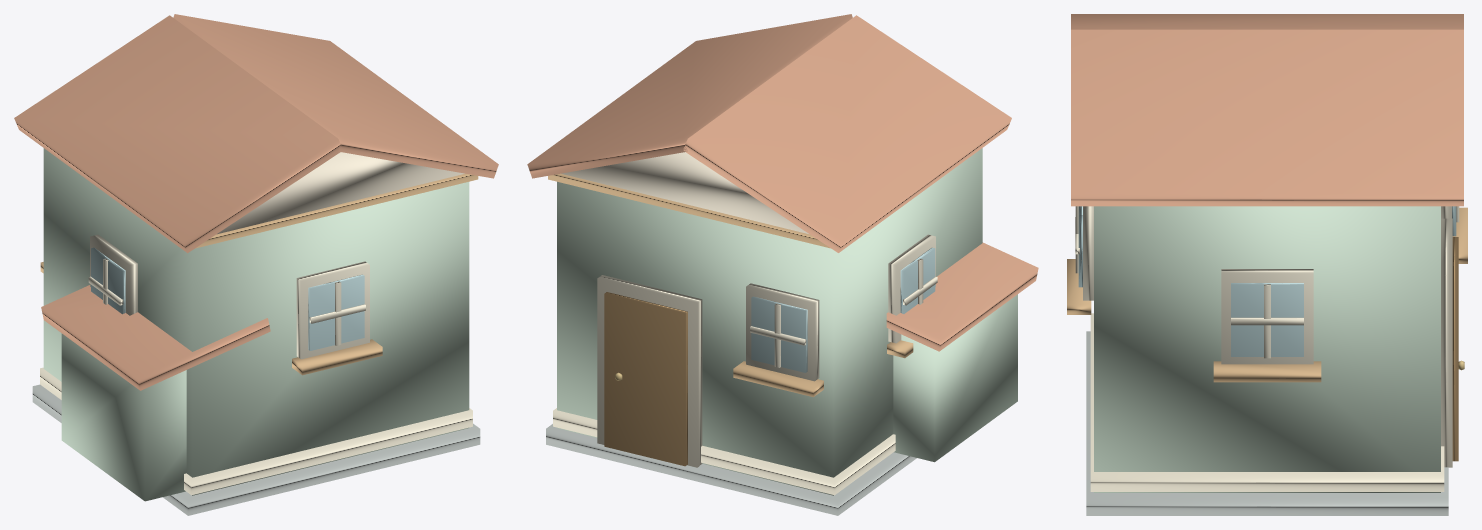
File: cottage_6_low.glb
3 views of the same model, side by side, from view 1: azimuth 30°, elevation 25°; view 2: azimuth 150°, elevation 25°; view 3: azimuth 270°, elevation 25° (orthographic). The views are drawn at different scales.
Size of the model in its own units: 3.69 by 3.47 by 3.12.
